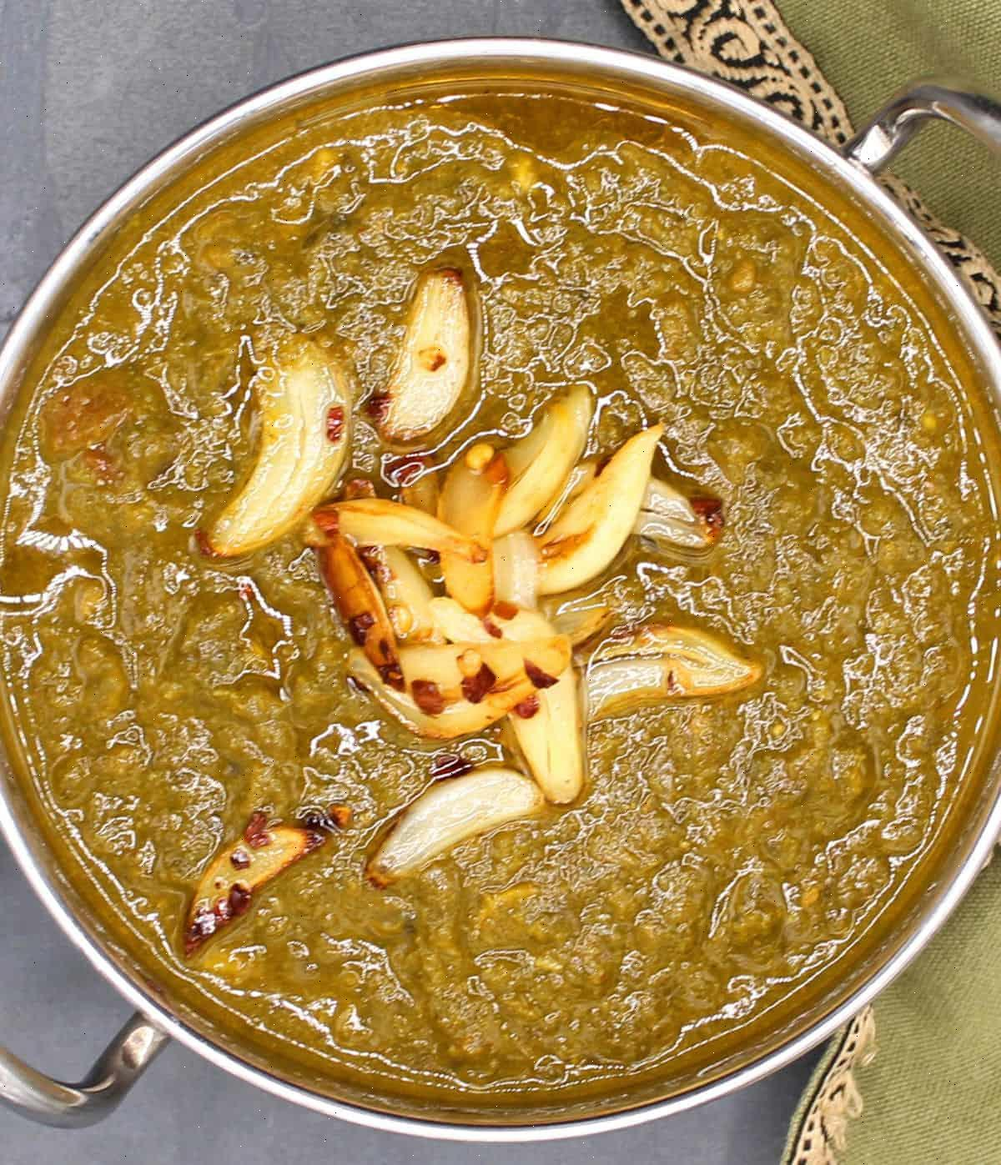saag: (17, 107, 986, 1087)
